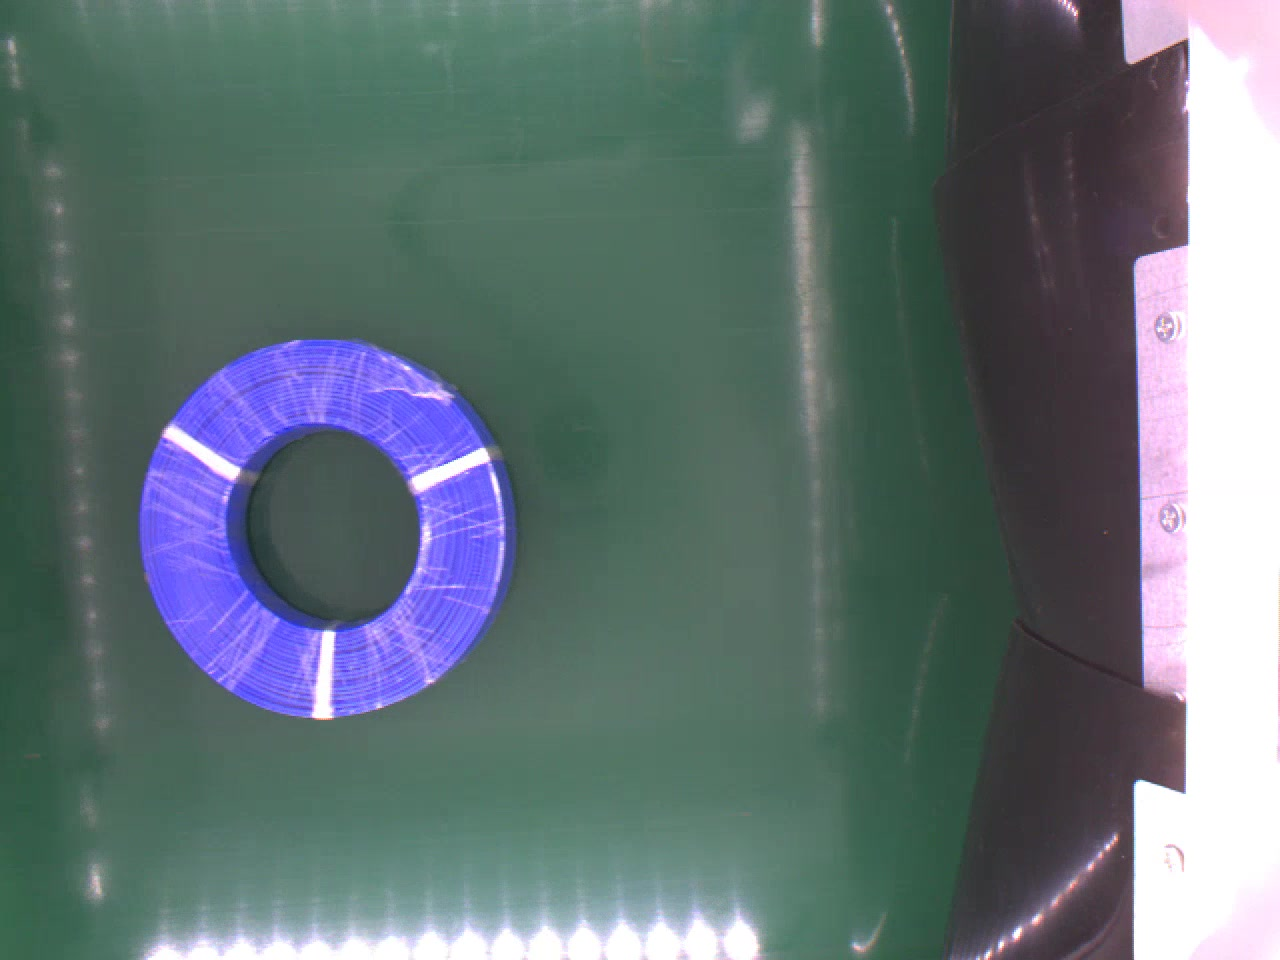blue: (132, 328, 516, 720)
